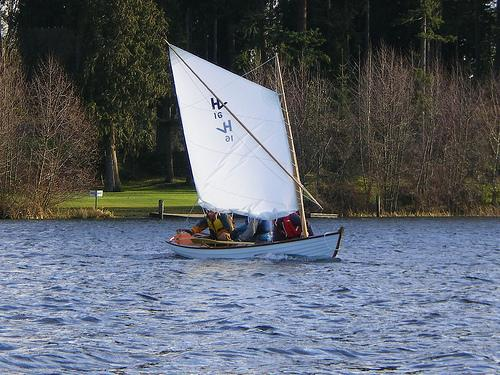Ship: (160, 33, 345, 264)
